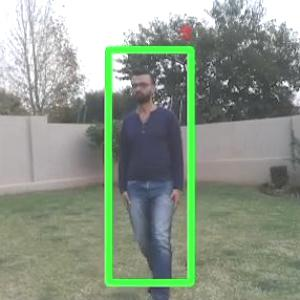follow: (108, 41, 193, 299)
